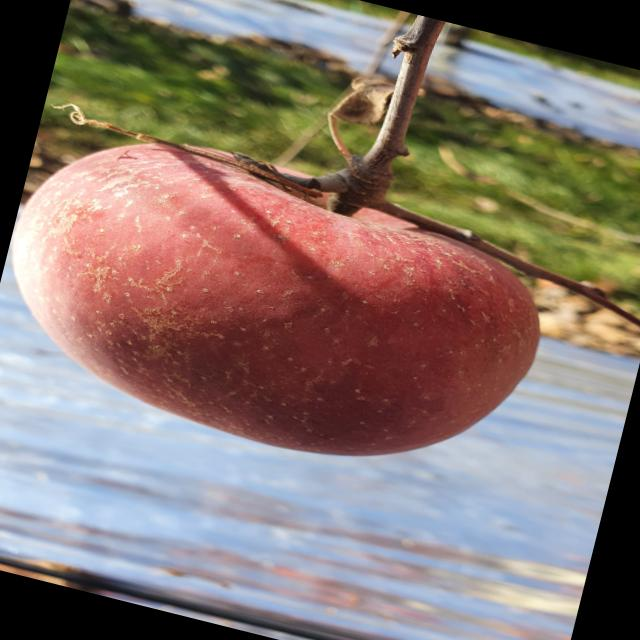fresh: (1, 90, 581, 516)
